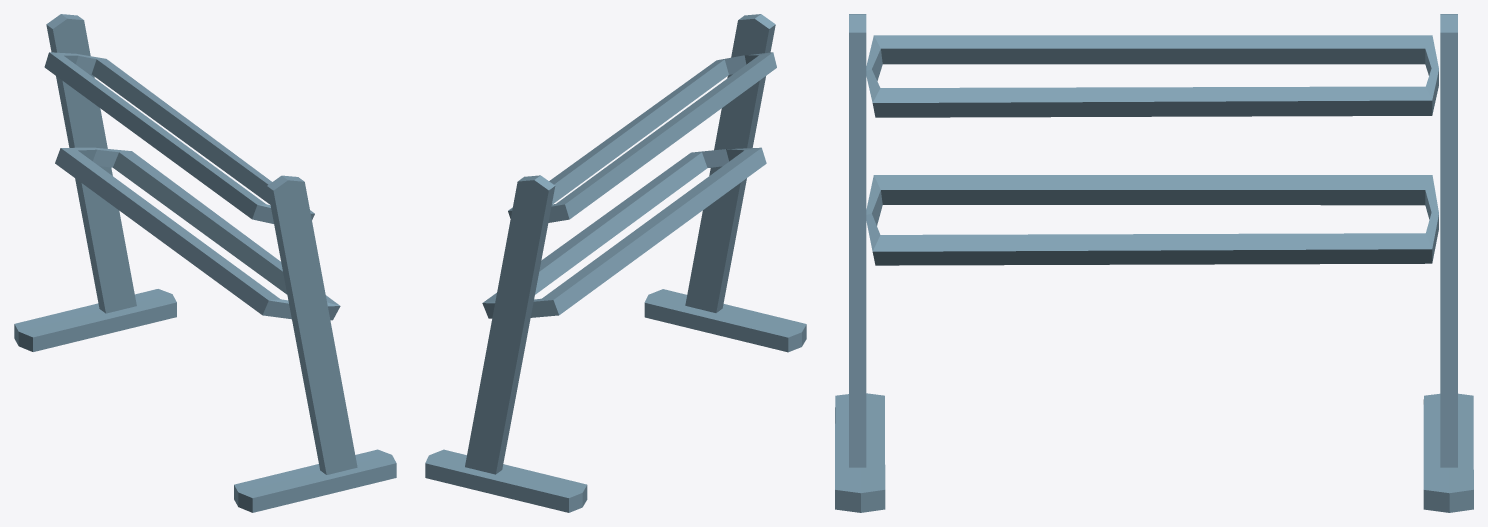
Rendered from Gym_Stand.fbx.
3 renders of one model, left to right at view 1: azimuth 30°, elevation 25°; view 2: azimuth 150°, elevation 25°; view 3: azimuth 270°, elevation 25°, orthographic. The views are drawn at different scales.
Visible parts, largest first — view 1: Gym_Stand; view 2: Gym_Stand; view 3: Gym_Stand.
Part boxes in pixels (x1,y1,x2,y2): Gym_Stand: (14,14,396,512); Gym_Stand: (425,14,806,512); Gym_Stand: (835,14,1473,512).
Bounding box in the file's own units: 59.52 × 119 × 160.
